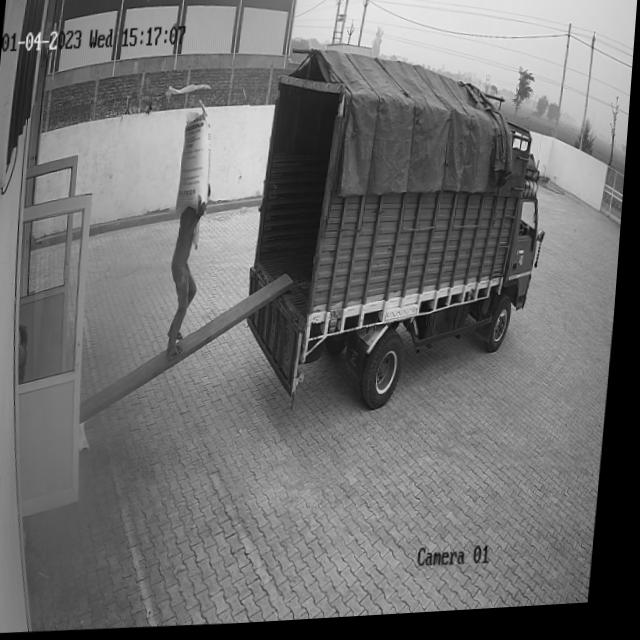sack: (179, 104, 218, 214)
